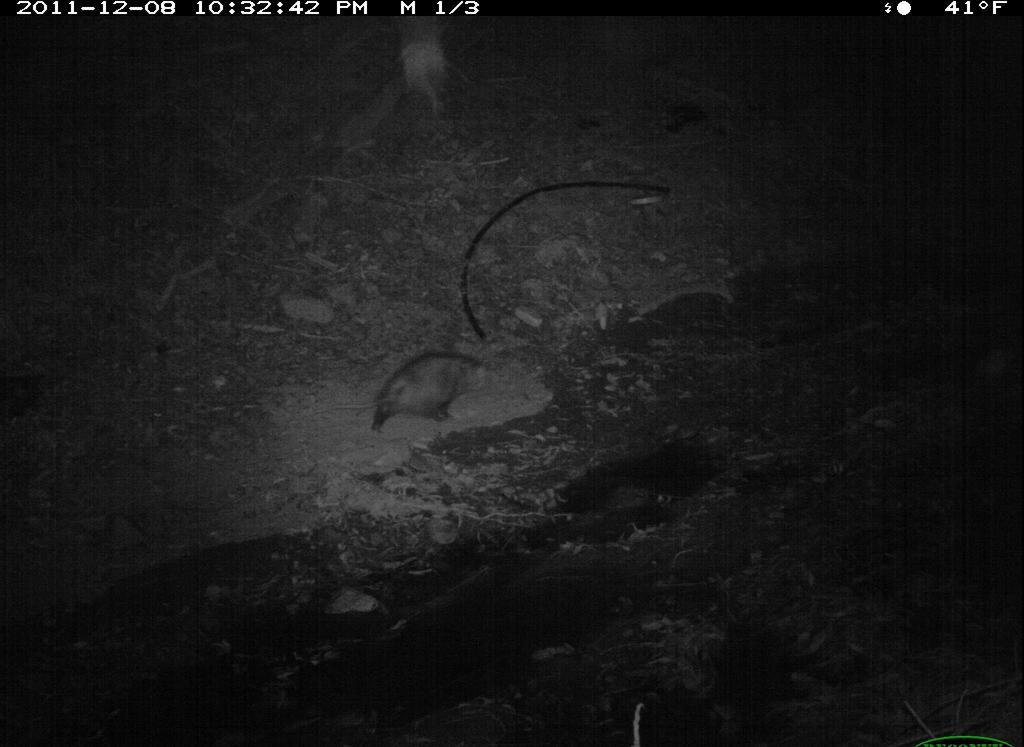opossum: (328, 341, 500, 438)
